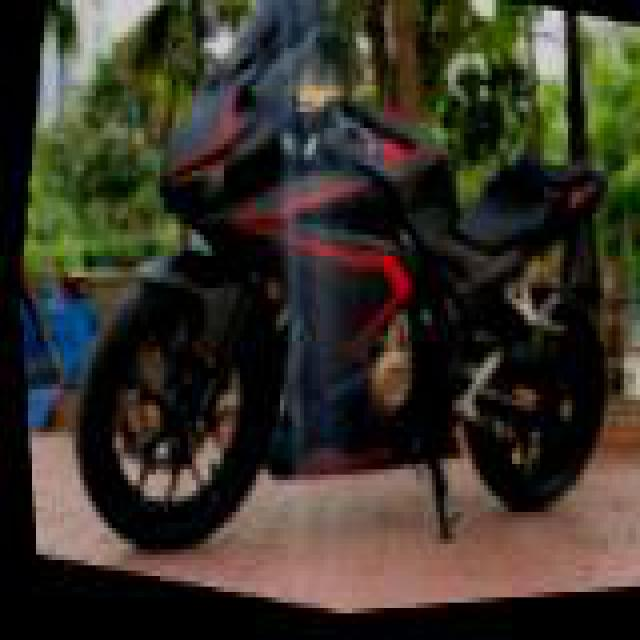CBR500R: (28, 0, 636, 635)
